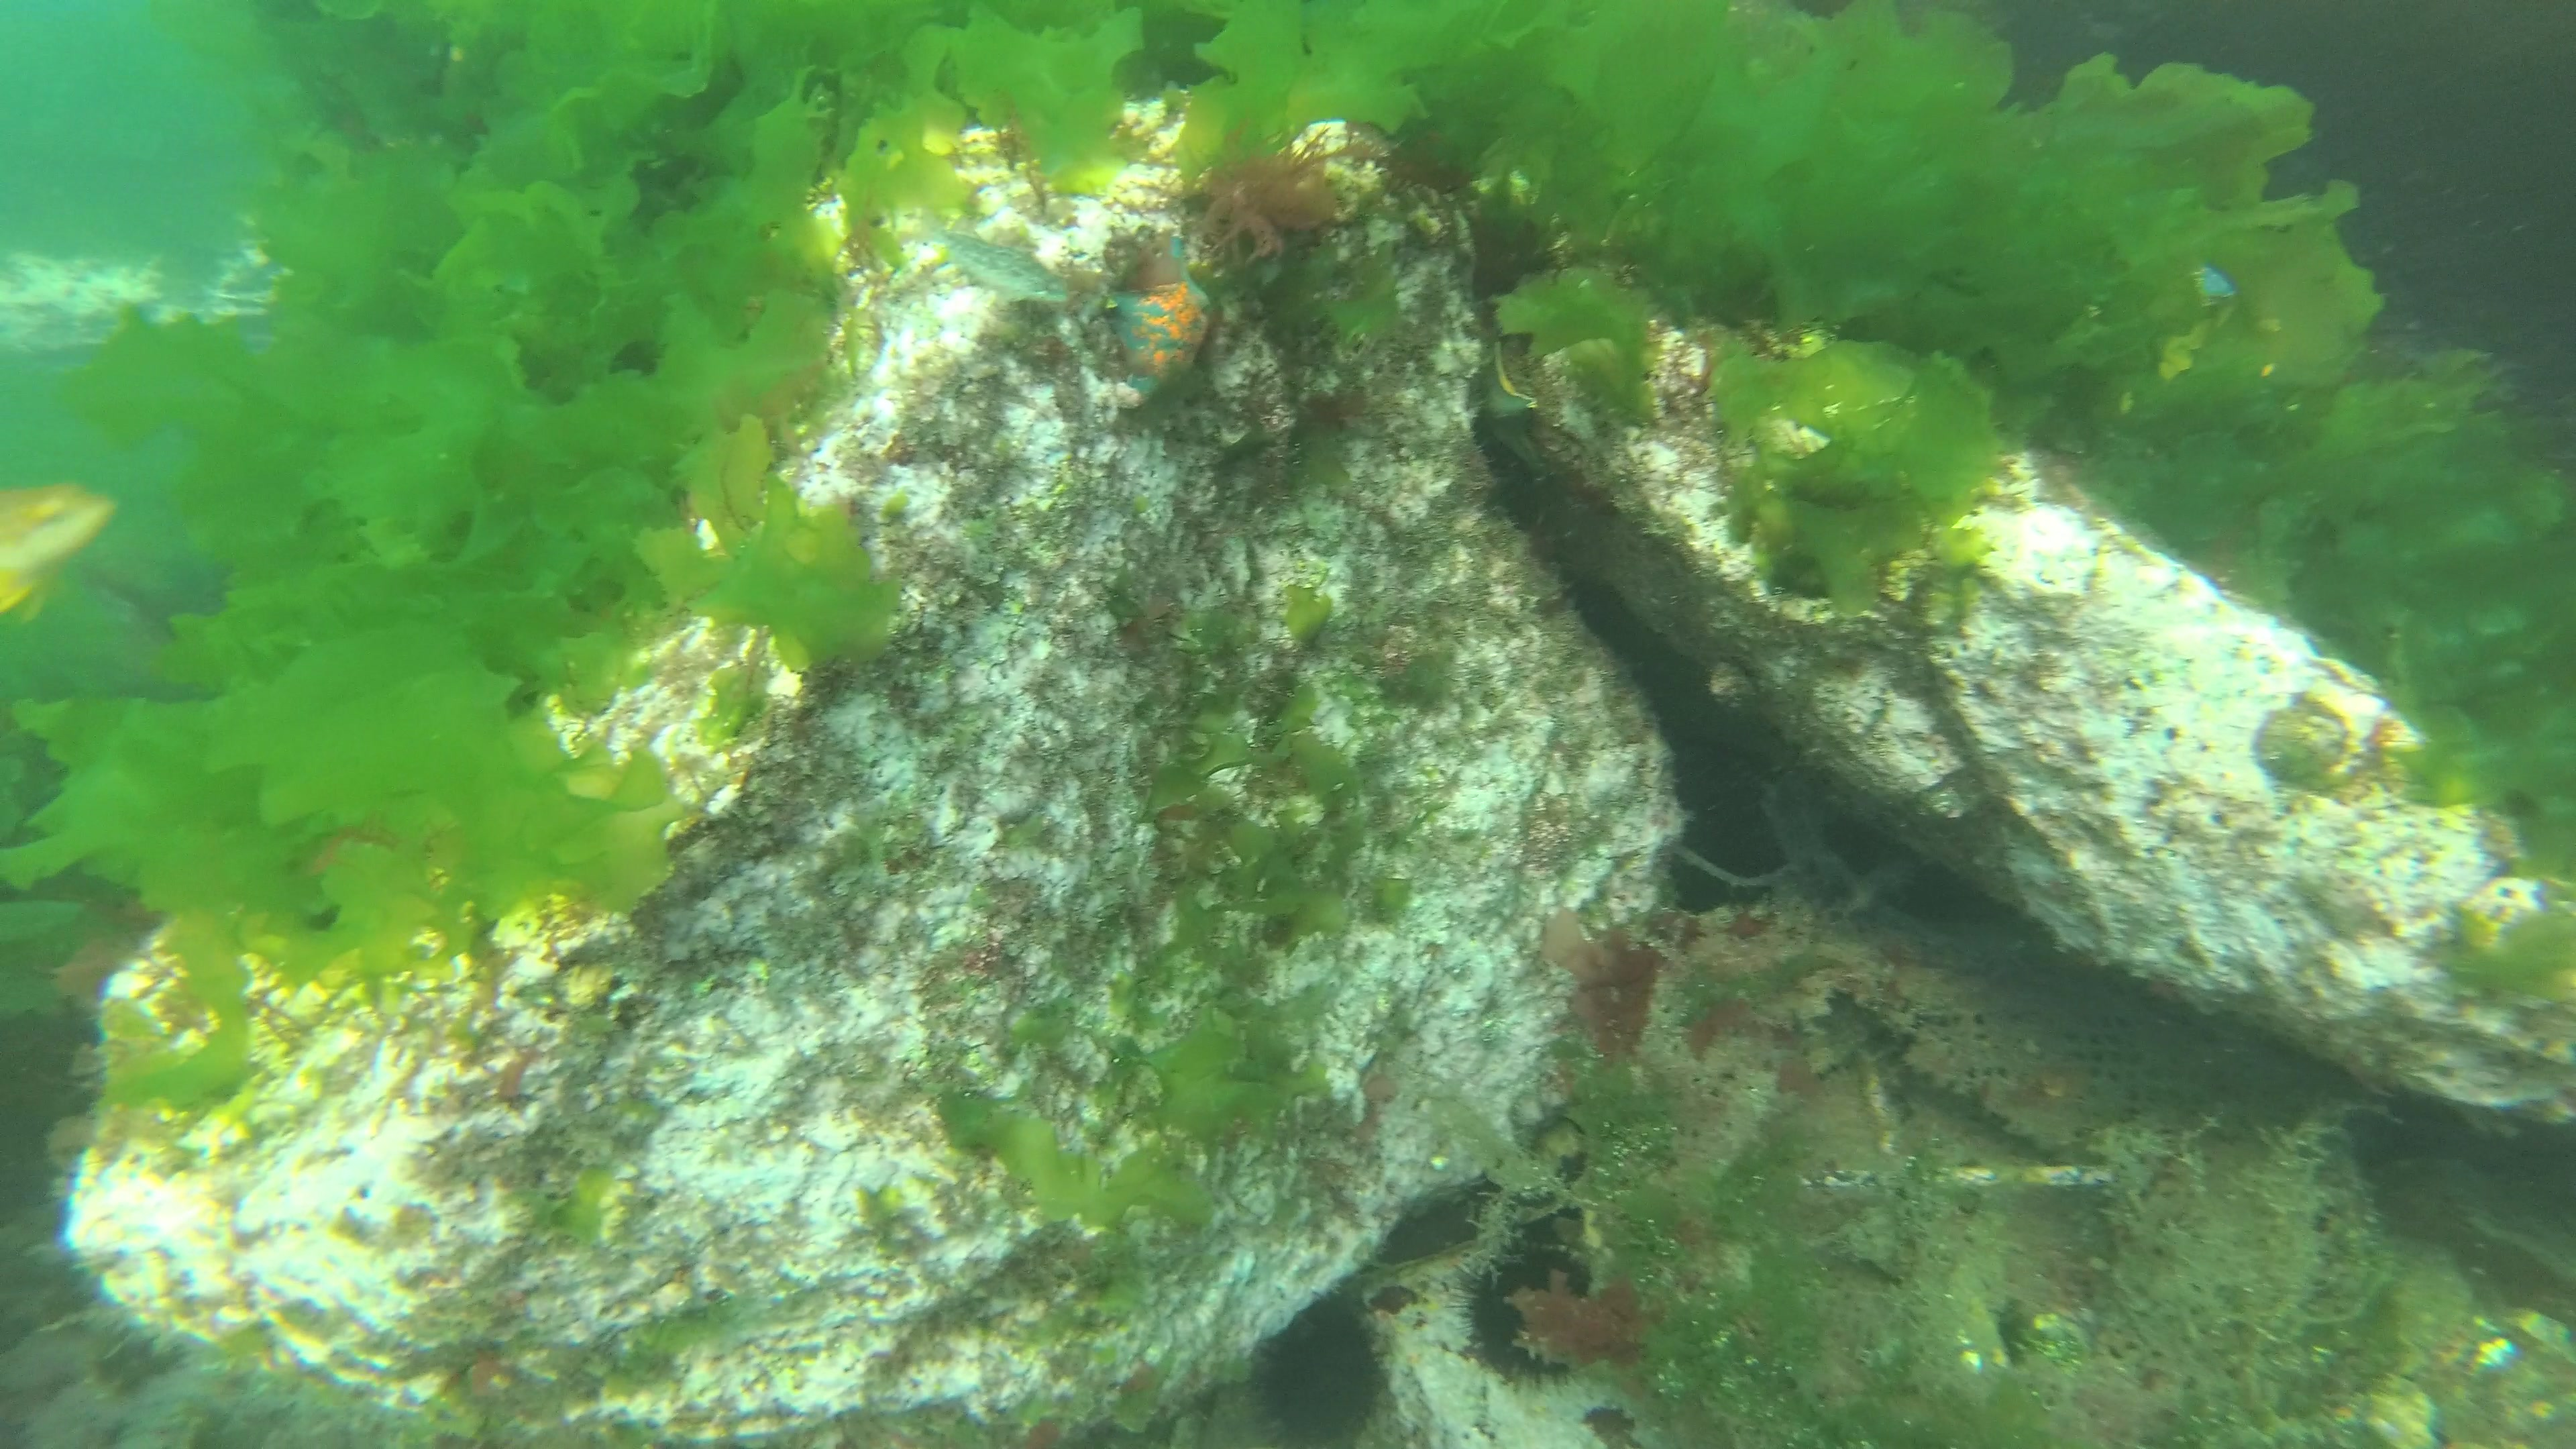echinus: (1437, 1219, 1601, 1401)
starfish: (1081, 232, 1217, 400), (1474, 336, 1548, 478)
